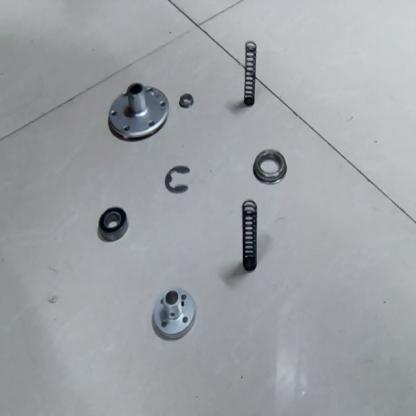FOD: (105, 80, 171, 142), (151, 285, 197, 342), (236, 196, 262, 274), (238, 38, 263, 111), (248, 148, 294, 184), (96, 205, 130, 245), (161, 162, 193, 196), (177, 90, 195, 110)
